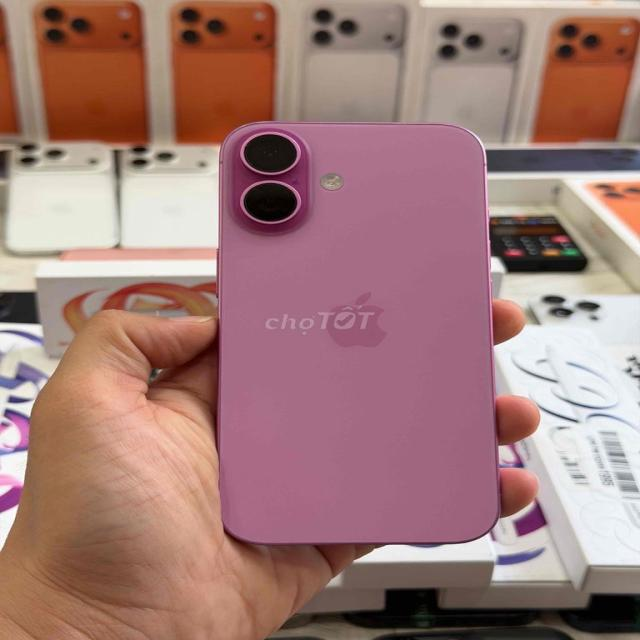gen_16: (197, 108, 515, 556)
